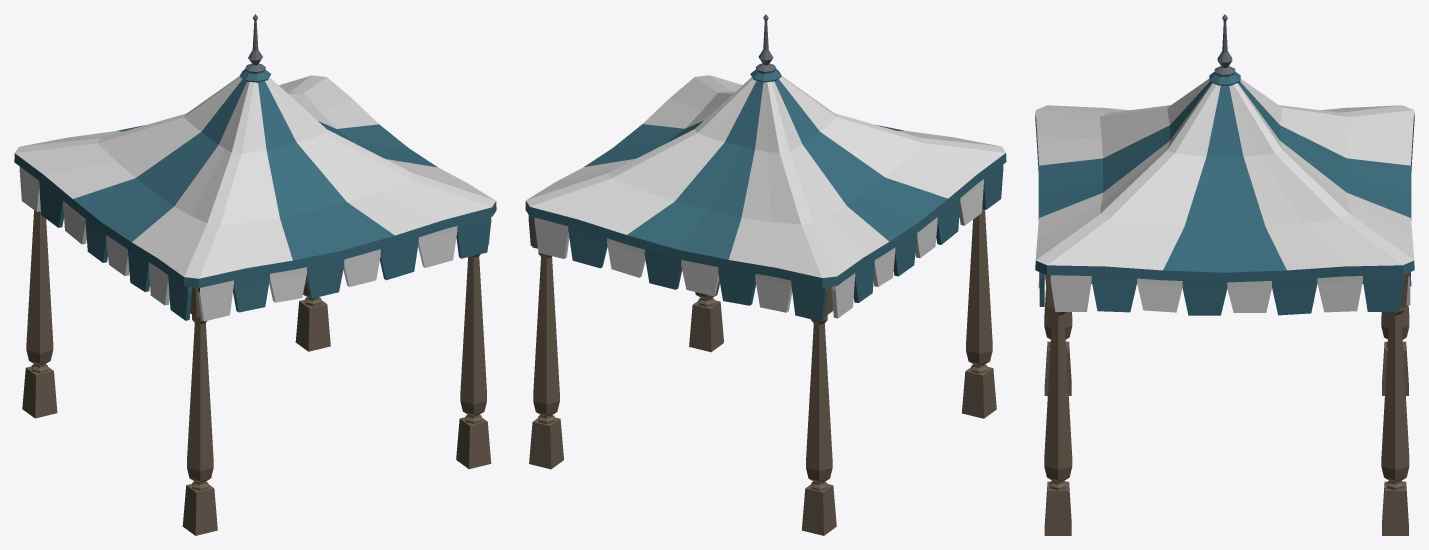
Rendered from bld_tent_open.gltf.
The picture shows the model from 3 angles, left to right: view 1: azimuth 30°, elevation 25°; view 2: azimuth 150°, elevation 25°; view 3: azimuth 270°, elevation 25°; orthographic projection. The views are drawn at different scales.
Parts seen in each view (by area): view 1: bld_tent_open; view 2: bld_tent_open; view 3: bld_tent_open.
Boxes of the visible parts, x1=… form: bld_tent_open: x1=14, y1=14, x2=496, y2=535; bld_tent_open: x1=525, y1=14, x2=1006, y2=535; bld_tent_open: x1=1035, y1=14, x2=1414, y2=535.
Bounding box in the file's own units: 3.2 × 4.14 × 3.2.
Materials: 1 (1 with a texture image).
